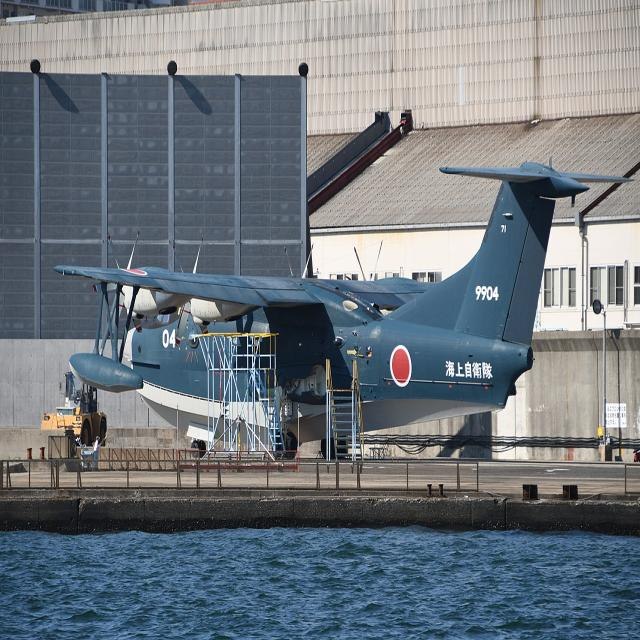MIL_Plane: (53, 155, 635, 459)
